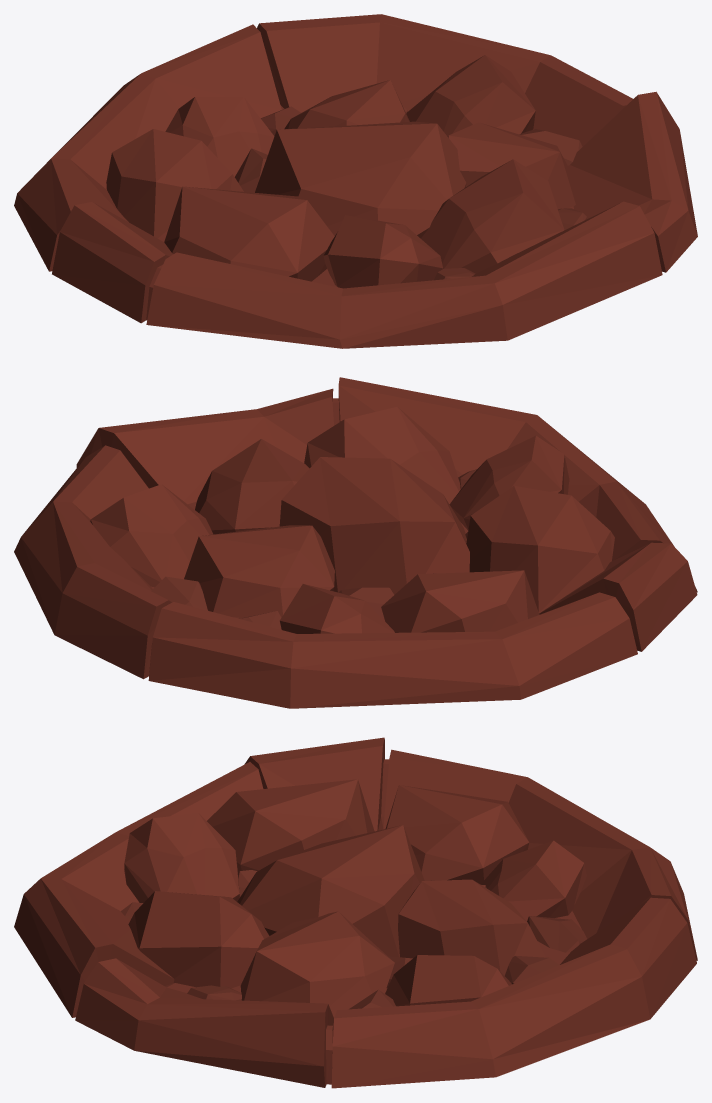
The model's file is SM_Bauxite_Node.fbx.
3 views of the same model, one above another, from view 1: azimuth 30°, elevation 25°; view 2: azimuth 150°, elevation 25°; view 3: azimuth 270°, elevation 25° (orthographic). The views are drawn at different scales.
Parts seen in each view (by area): view 1: SM_Bauxite_Node_Base; view 2: SM_Bauxite_Node_Base; view 3: SM_Bauxite_Node_Base.
Part boxes in pixels (x1,y1,x2,y2): SM_Bauxite_Node_Base: (14, 14, 697, 348); SM_Bauxite_Node_Base: (14, 377, 697, 708); SM_Bauxite_Node_Base: (14, 737, 697, 1088).
Size of the model in its own units: 188 by 47.65 by 183.
